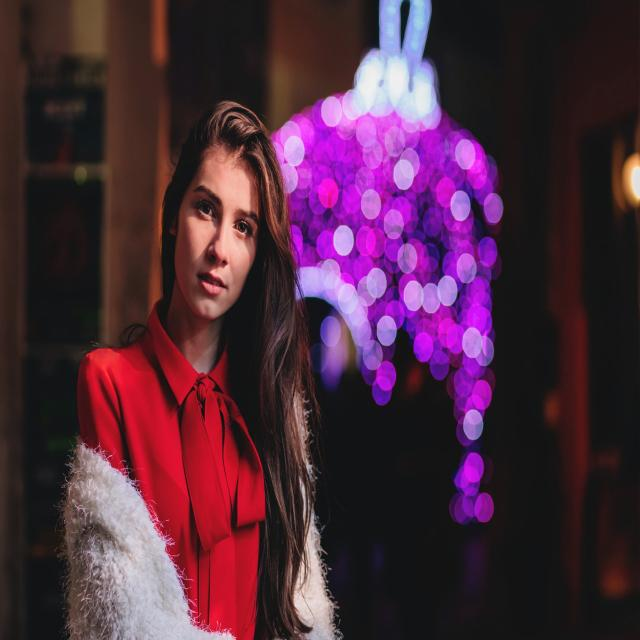adult: (79, 101, 316, 640)
